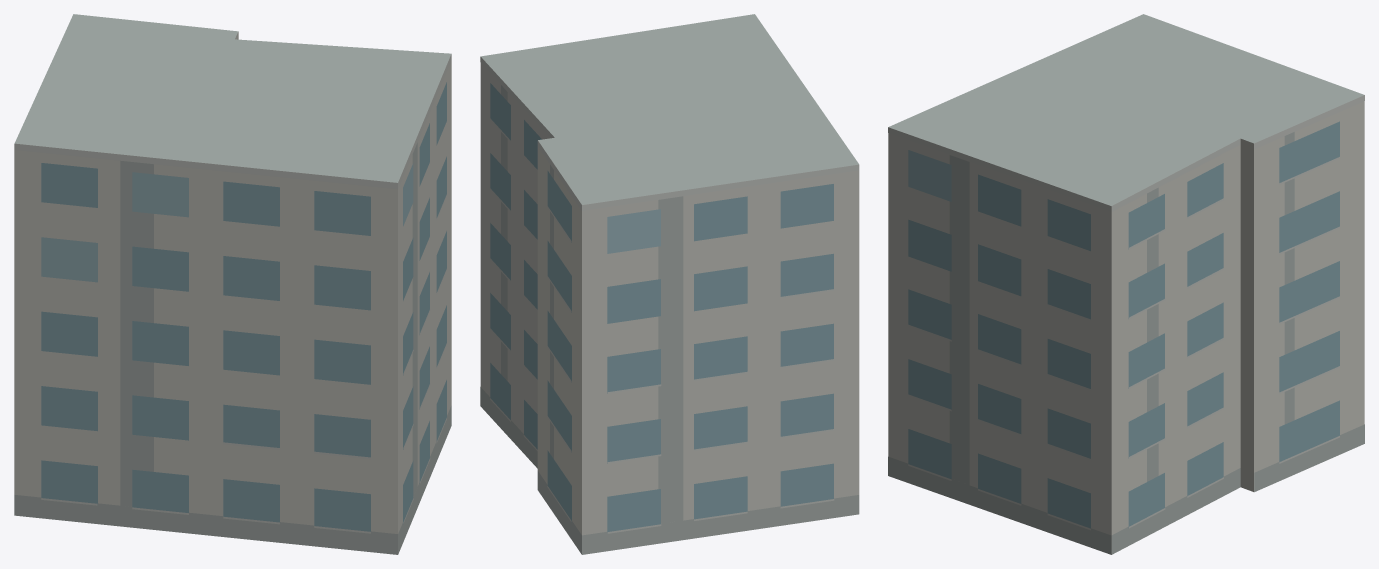
The model's file is survey-upis-32775226.glb.
The picture shows the model from 3 angles, left to right: view 1: azimuth 30°, elevation 25°; view 2: azimuth 150°, elevation 25°; view 3: azimuth 270°, elevation 25°; orthographic projection. The views are drawn at different scales.
Visible parts, largest first — view 1: survey-upis-32775226.tmp; view 2: survey-upis-32775226.tmp; view 3: survey-upis-32775226.tmp.
Boxes of the visible parts, <box> form: survey-upis-32775226.tmp: <box>14,14,451,554</box>; survey-upis-32775226.tmp: <box>480,14,859,554</box>; survey-upis-32775226.tmp: <box>888,14,1364,554</box>.
Bounding box in the file's own units: 16.97 × 14.35 × 17.78.
